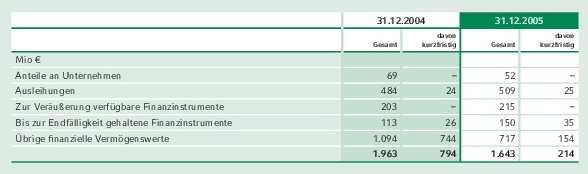table: (0, 0, 588, 174)
